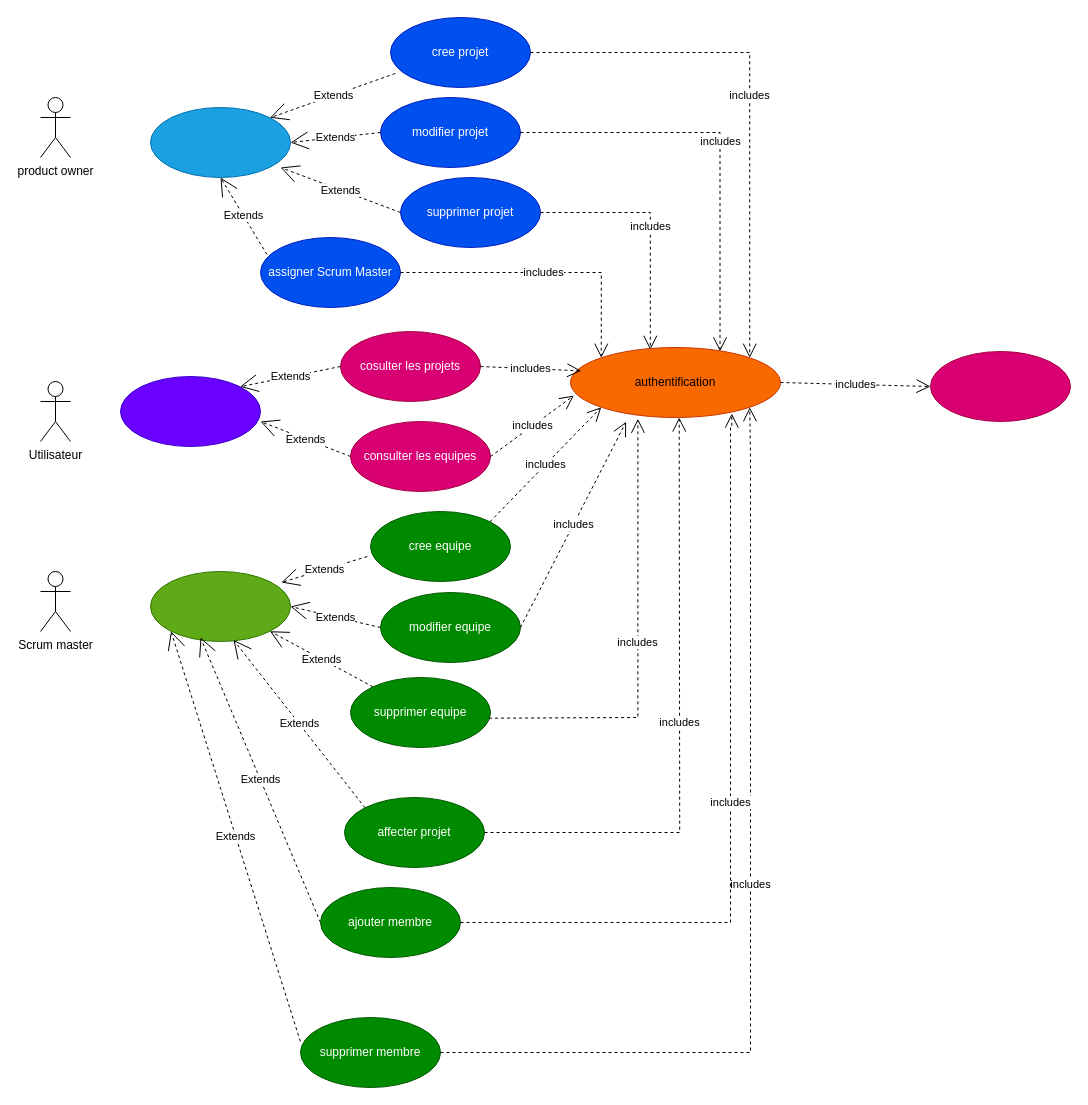
This 1088x1105 diagram has some shape labels left out. The shapes that lost their labels are listed below. From the top down, each one's centre as x and y in pixels, then its label:
At (220,142): "Gestion de projet".
At (1000,386): "inscription".
At (190,411): "consulter".
At (220,606): "Gestion d'equipe".
